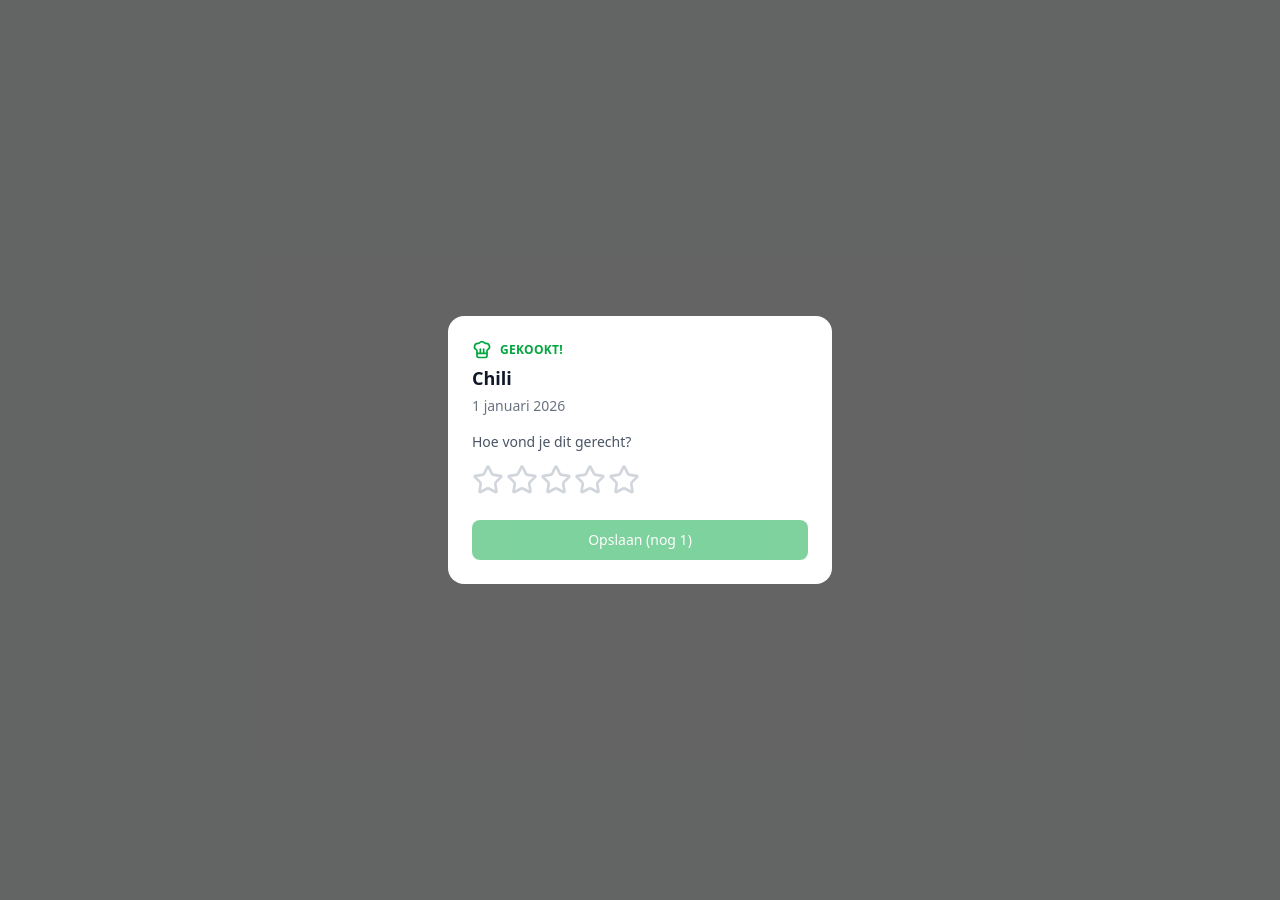
ReviewGate › Bewaren creates a freezer item linked to the recipe and session, then advances
The image size is (1280, 900).
Expected: the heading "Chili" is shown, [472,366,512,390]
Click the 4th button.
click(590, 480)  # box [574,464,606,496]
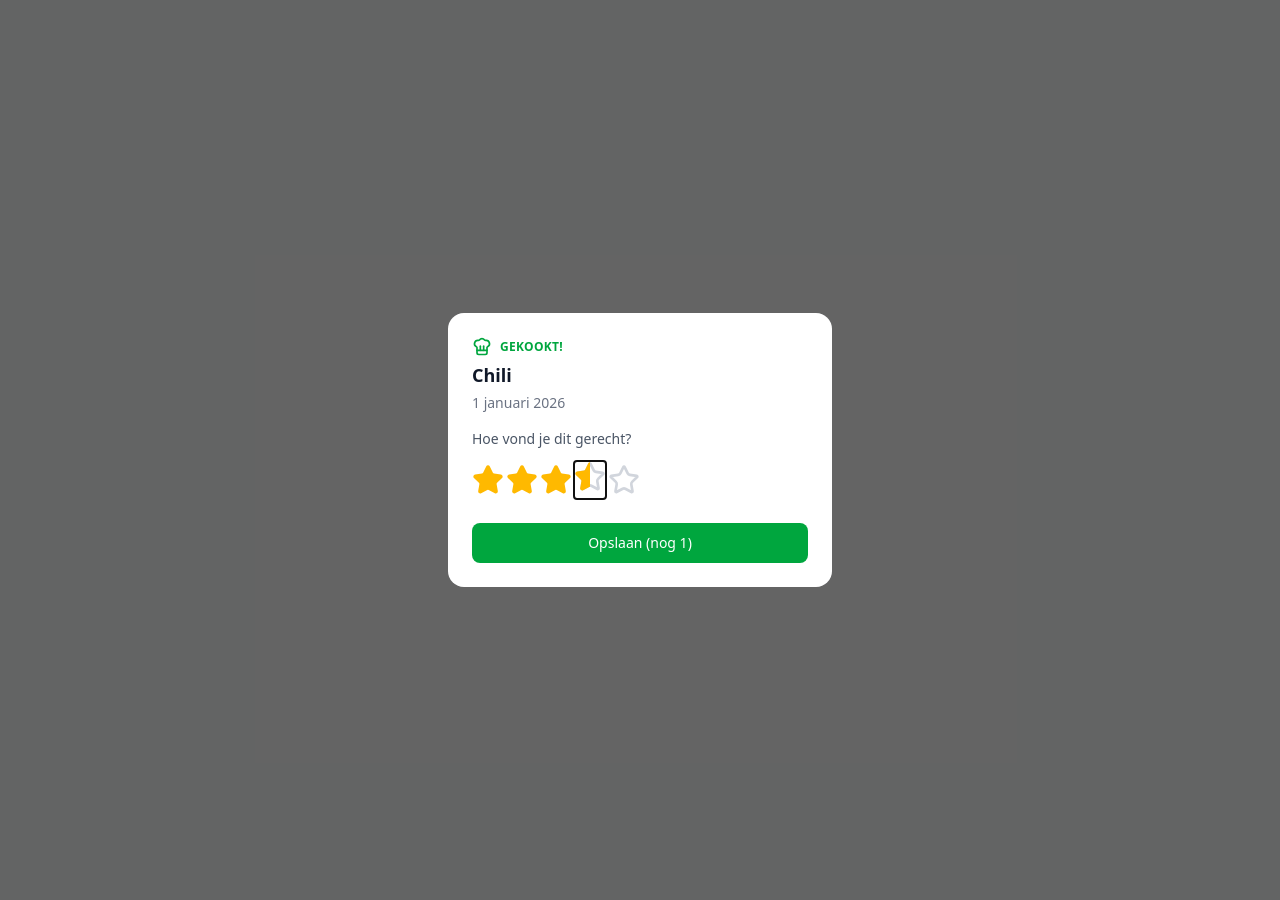
Click the button "Opslaan (nog 1)".
click(640, 543)  # box [472,523,808,563]
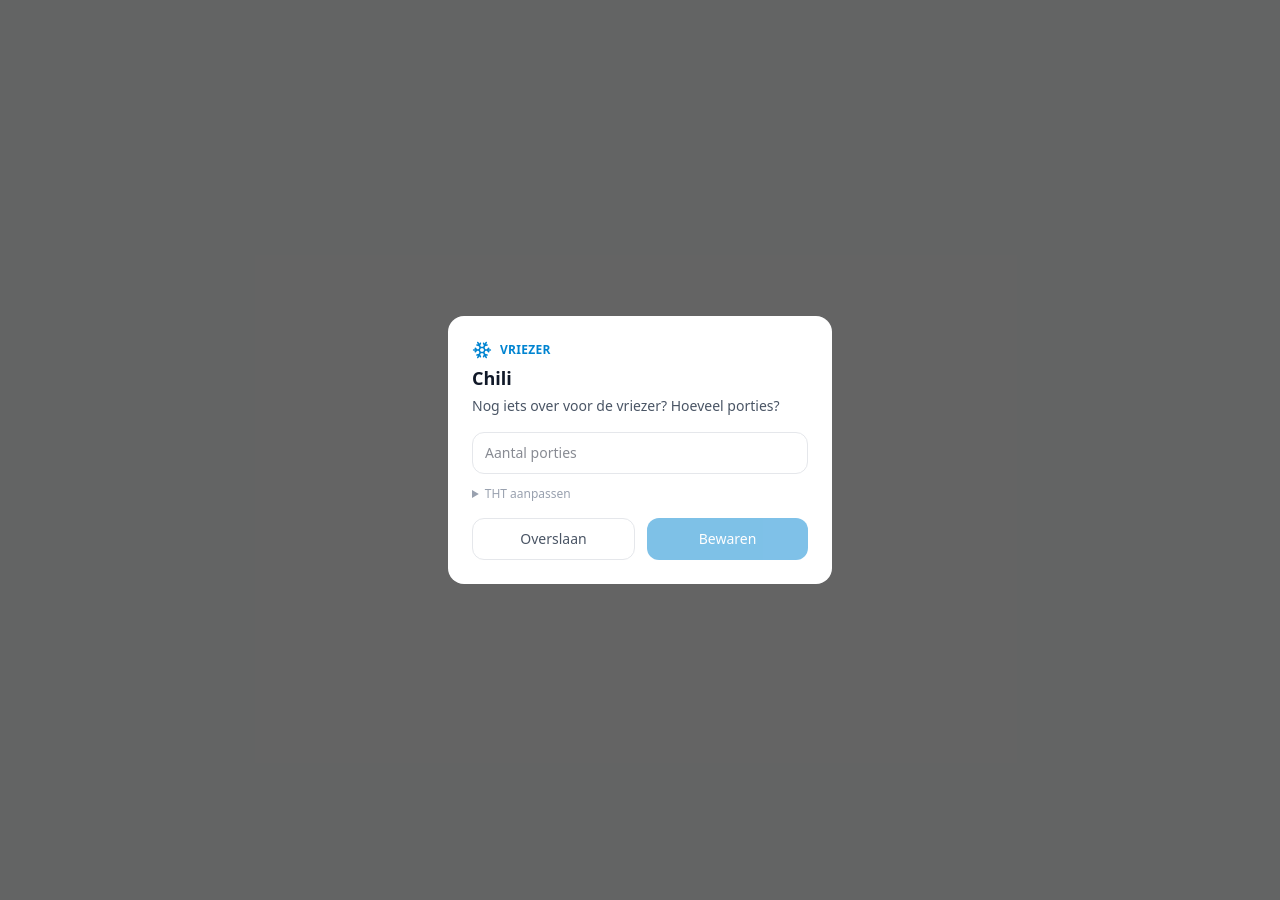
Expected: the text "Vriezer" is shown, [500,342,551,358]
Type "3" into the number field with placeholder "Aantal porties".
click(640, 453); type("3")  # box [472,432,808,474]
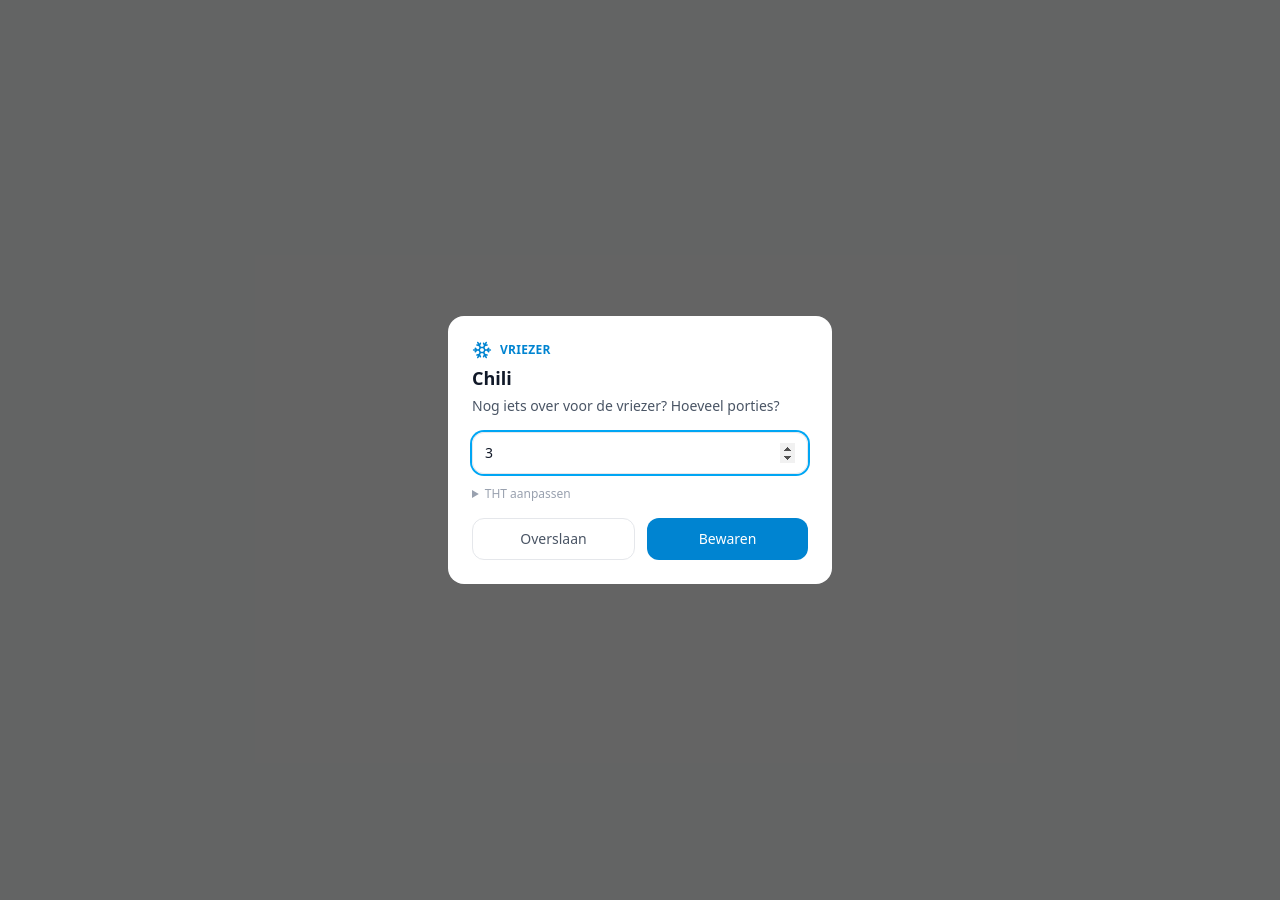
Click the button "Bewaren".
click(728, 539)  # box [647,518,808,560]
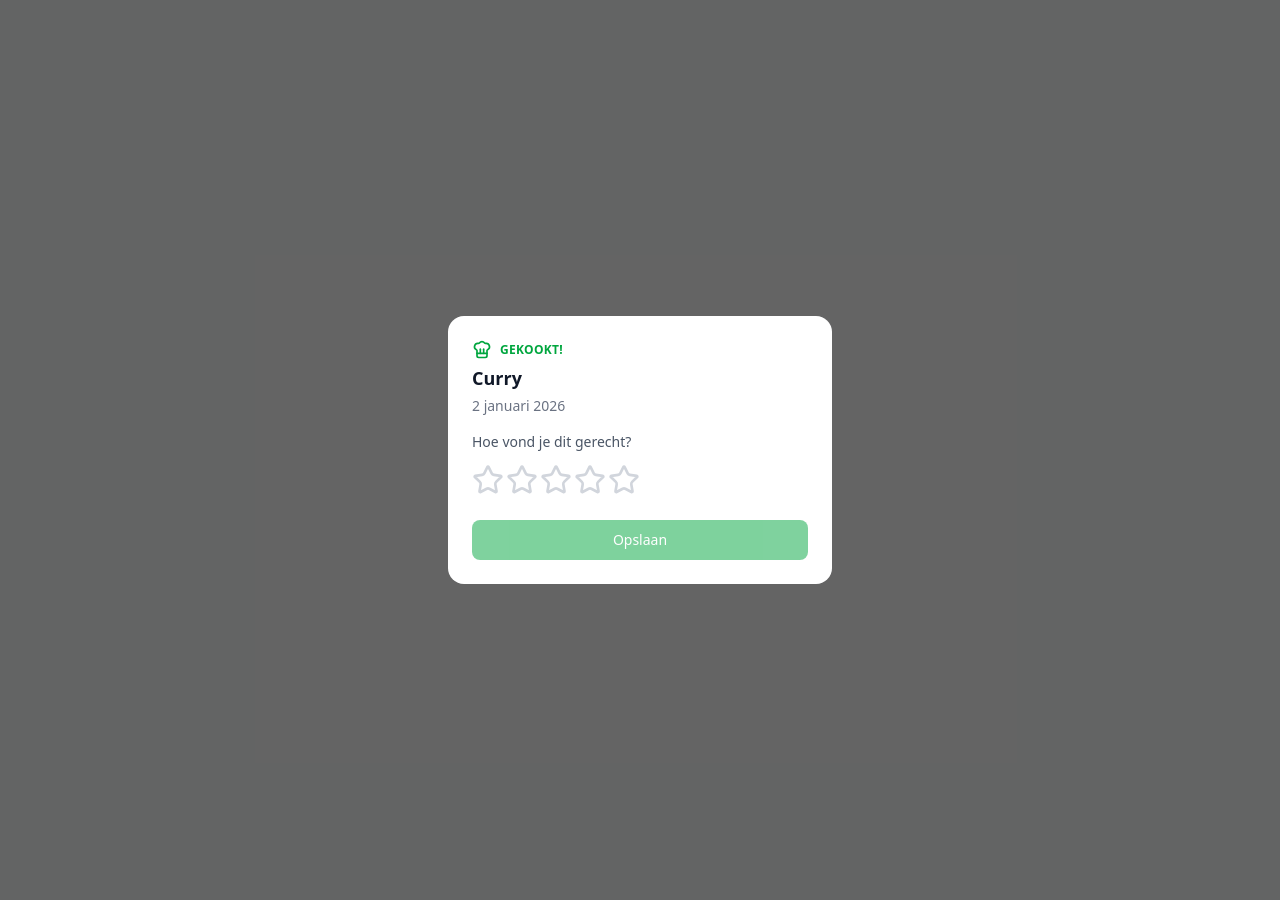
Expected: the heading "Curry" is shown, [472,366,522,390]
